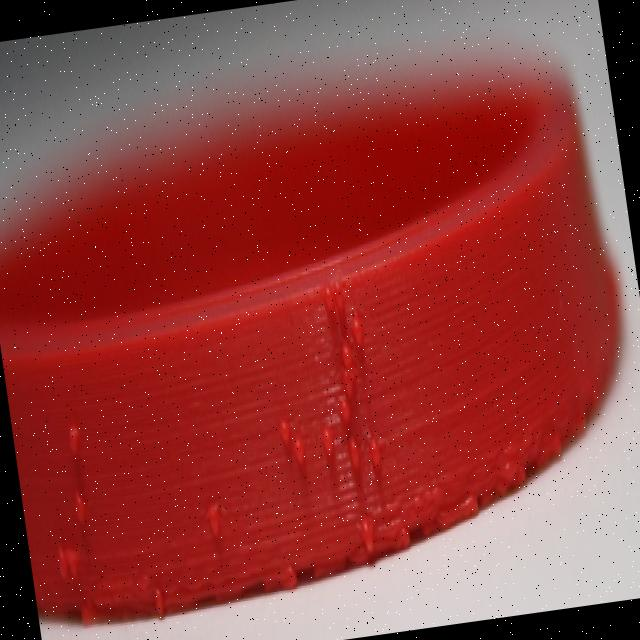blobs: (399, 368, 609, 545), (266, 264, 389, 552), (45, 397, 96, 604), (197, 485, 223, 564), (142, 575, 172, 622)
